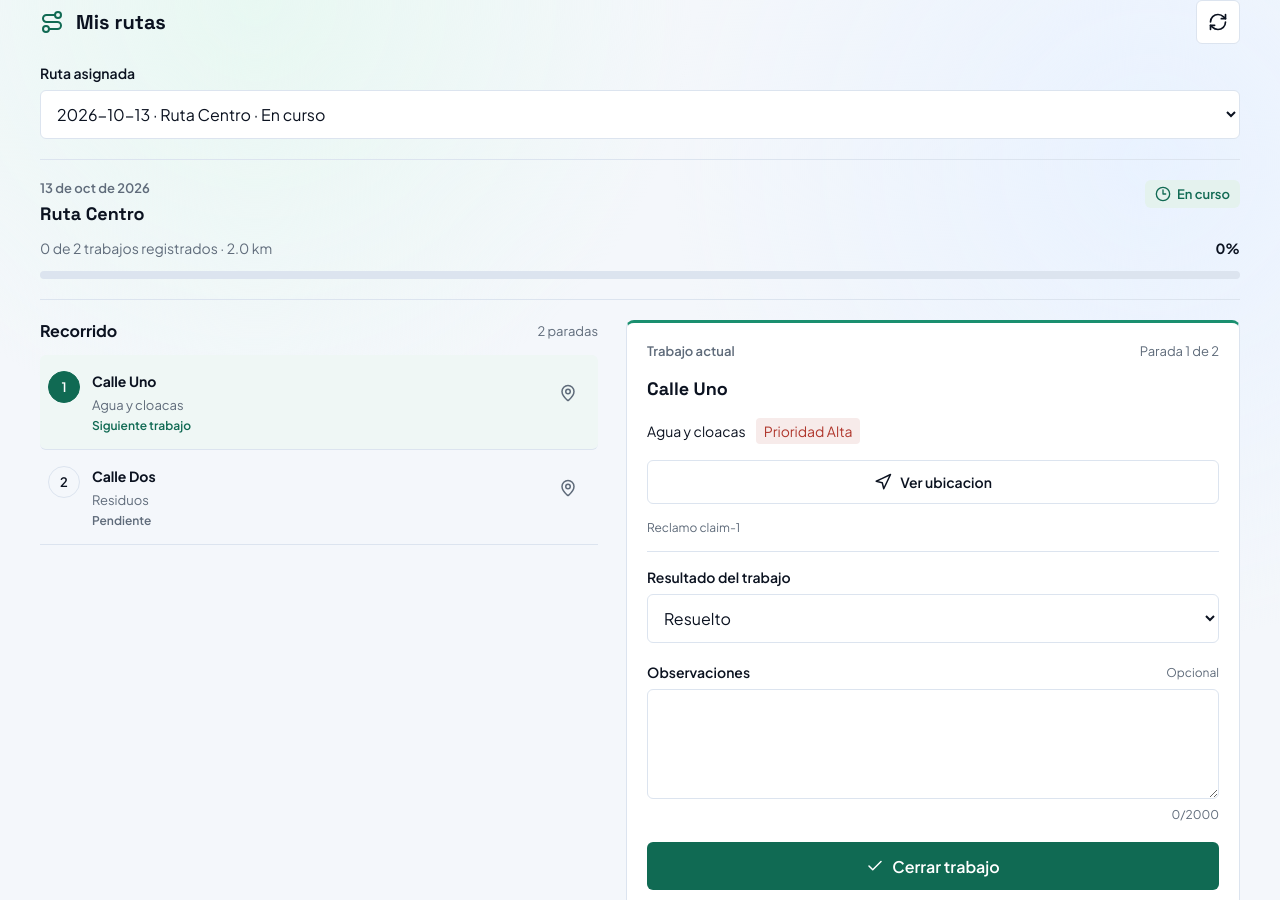
Scenario: AgentRoutesPanel › advances to the next stop and preserves the completed route
Click the button "Cerrar trabajo" at (933, 866), box [647,842,1219,890]
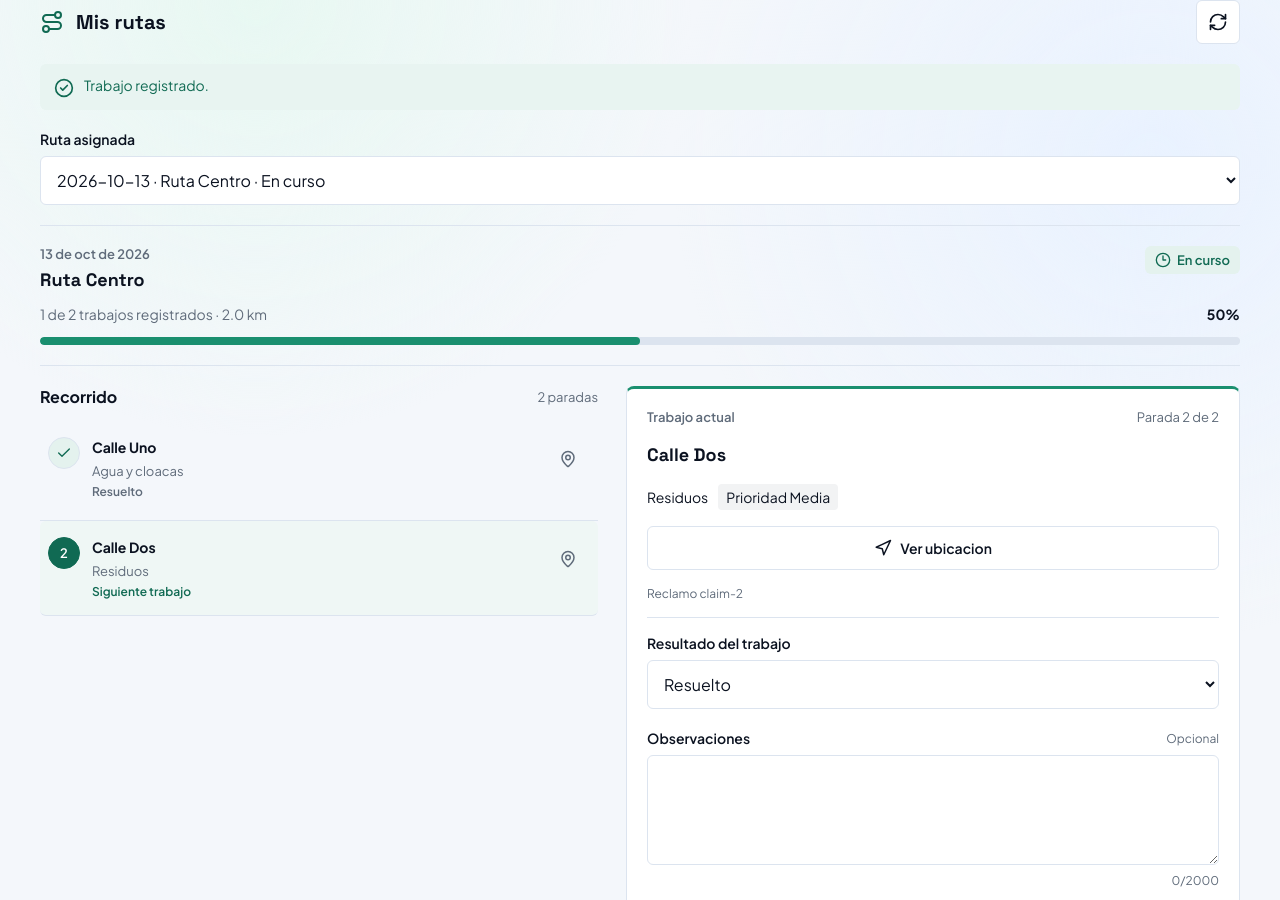
Now the text "1 de 2 trabajos registrados · 2.0 km" is shown, box [40,305,267,323]
Type "  Trabajo terminado  " into the text box labelled "Observaciones" at (933, 810), box [647,755,1219,865]
(page scrolled)
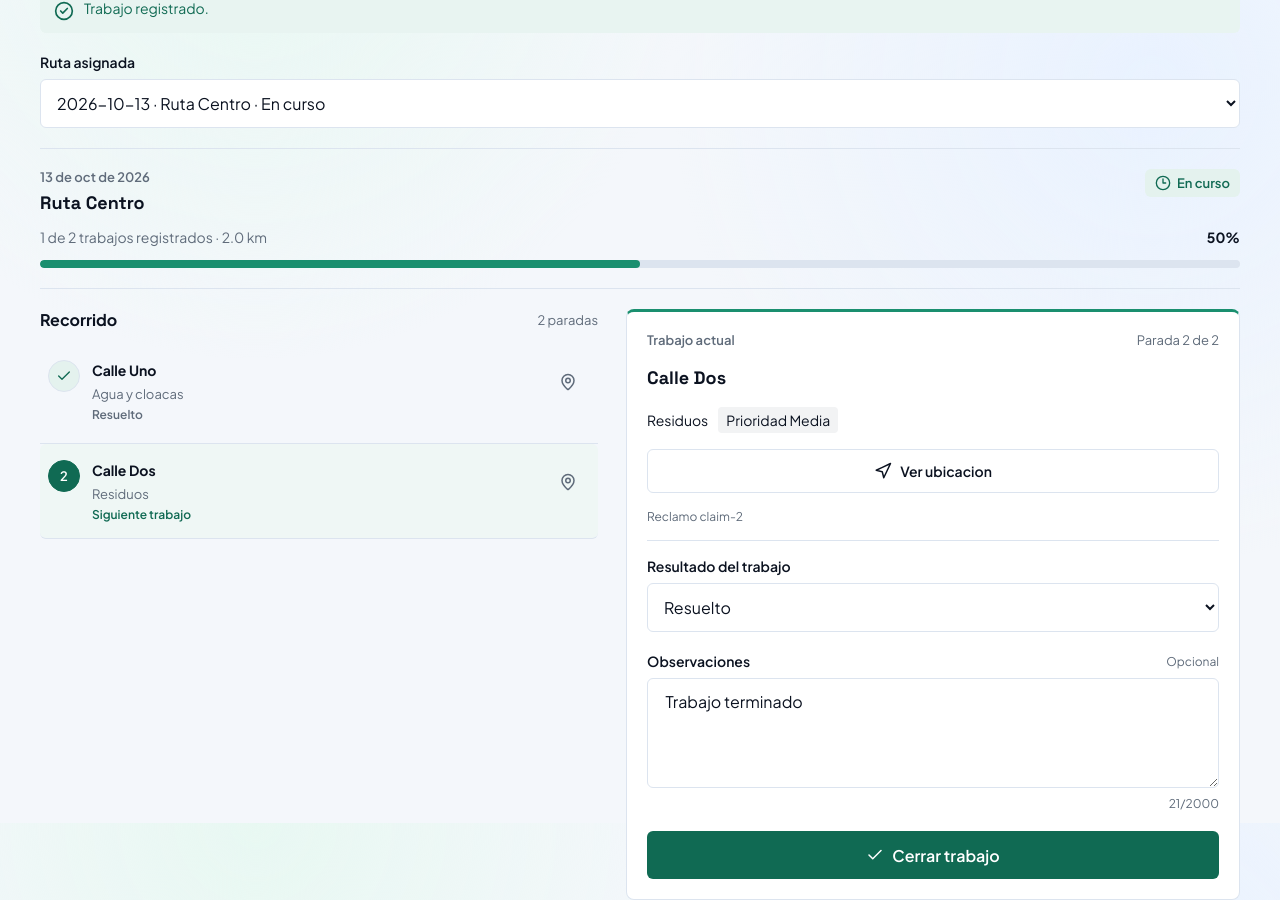
Click the button "Cerrar trabajo" at (933, 855), box [647,831,1219,879]
(page scrolled)
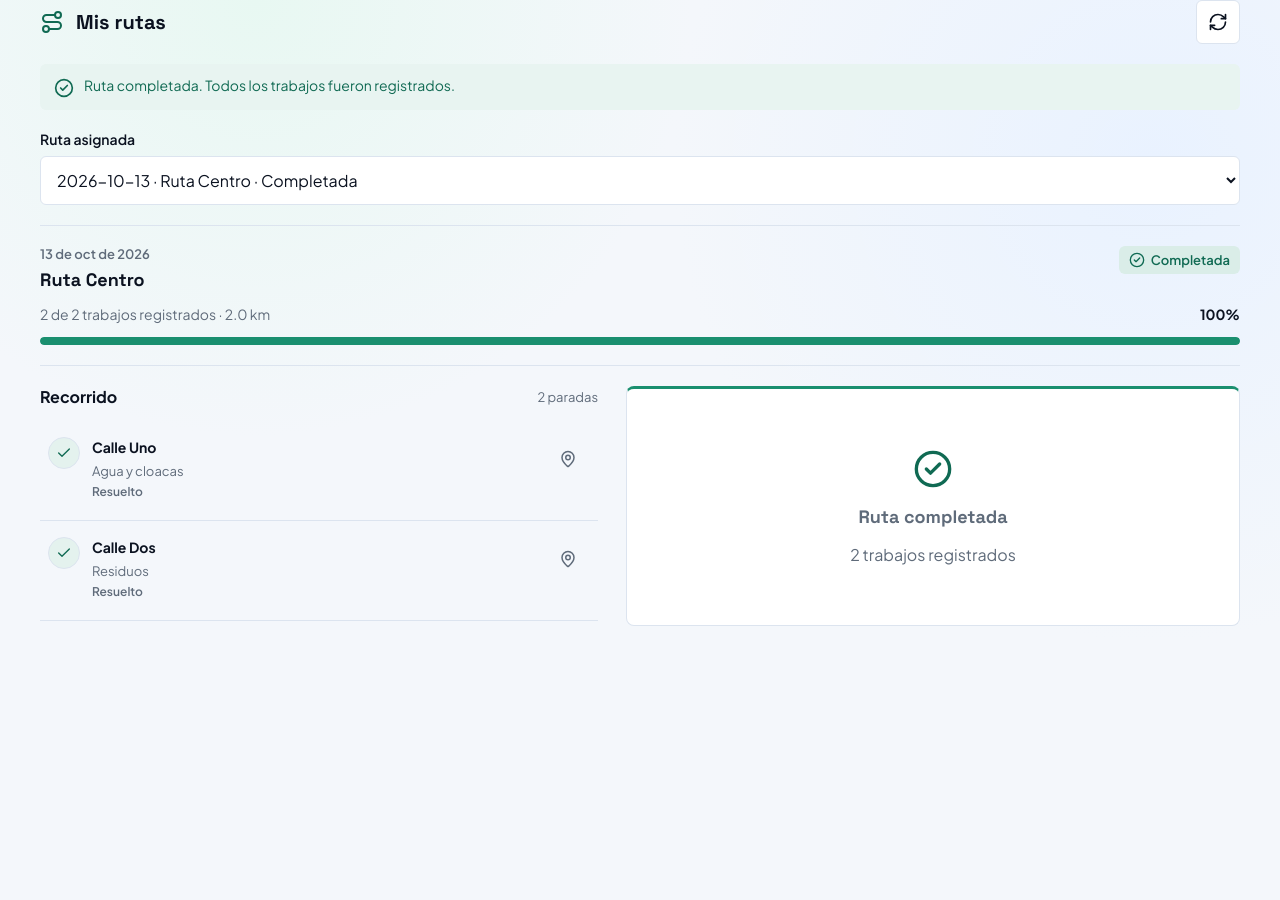
Now the text "Ruta completada. Todos los trabajos fueron registrados." is shown, box [84,76,455,94]
Now the text "Completada" is shown, box [1119,246,1240,274]
Now the button "Cerrar trabajo" is gone
